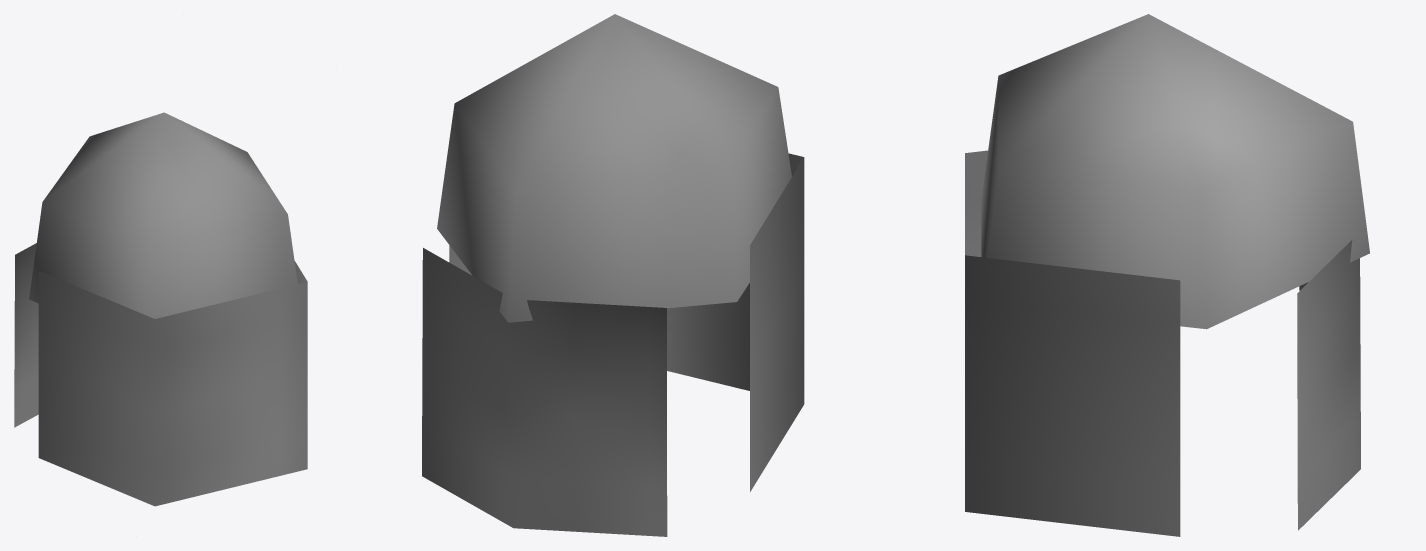
The model's file is Helm_LOD0.dae.
3 views of the same model, side by side, from view 1: azimuth 30°, elevation 25°; view 2: azimuth 150°, elevation 25°; view 3: azimuth 270°, elevation 25° (orthographic). The views are drawn at different scales.
Visible parts, largest first — view 1: Helm_LOD0; view 2: Helm_LOD0; view 3: Helm_LOD0.
Part boxes in pixels (x1,y1,x2,y2): Helm_LOD0: (14, 112, 307, 506); Helm_LOD0: (422, 14, 804, 536); Helm_LOD0: (965, 14, 1369, 536).
Bounding box in the file's own units: 0.2341 × 0.3234 × 0.3239.
Materials: 2 (2 with a texture image).
